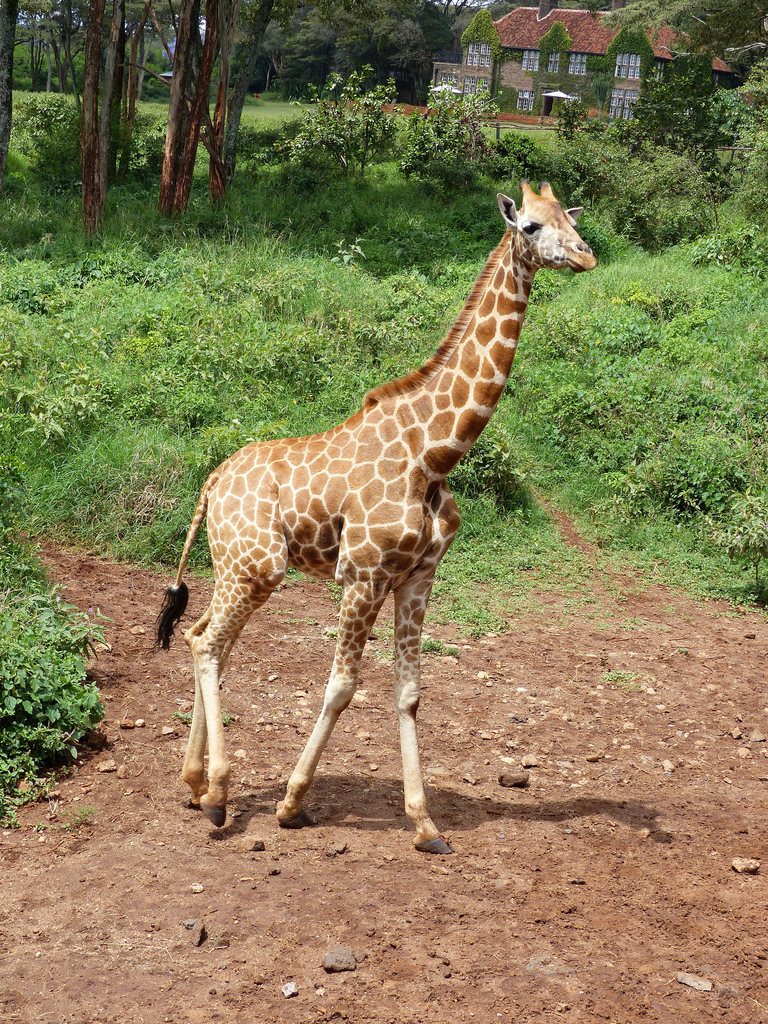giraffe: (175, 172, 600, 853)
